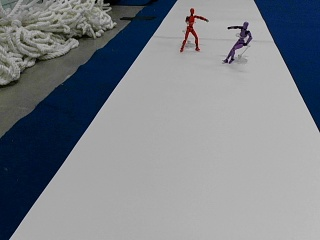pedestrian: (224, 19, 252, 63), (180, 8, 208, 52)
